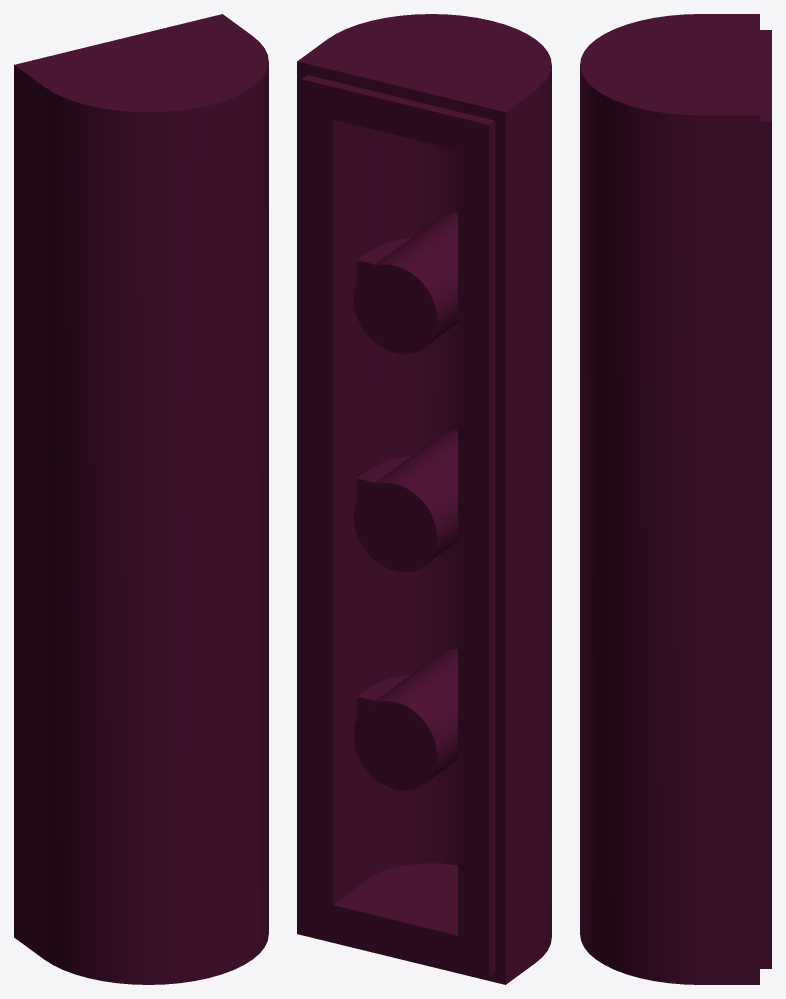
The model's file is slope_curved1*4*2:3_double_magenta.obj.
The picture shows the model from 3 angles, left to right: view 1: azimuth 30°, elevation 25°; view 2: azimuth 150°, elevation 25°; view 3: azimuth 270°, elevation 25°; orthographic projection.
Size of the model in its own units: 20 by 80 by 16.
